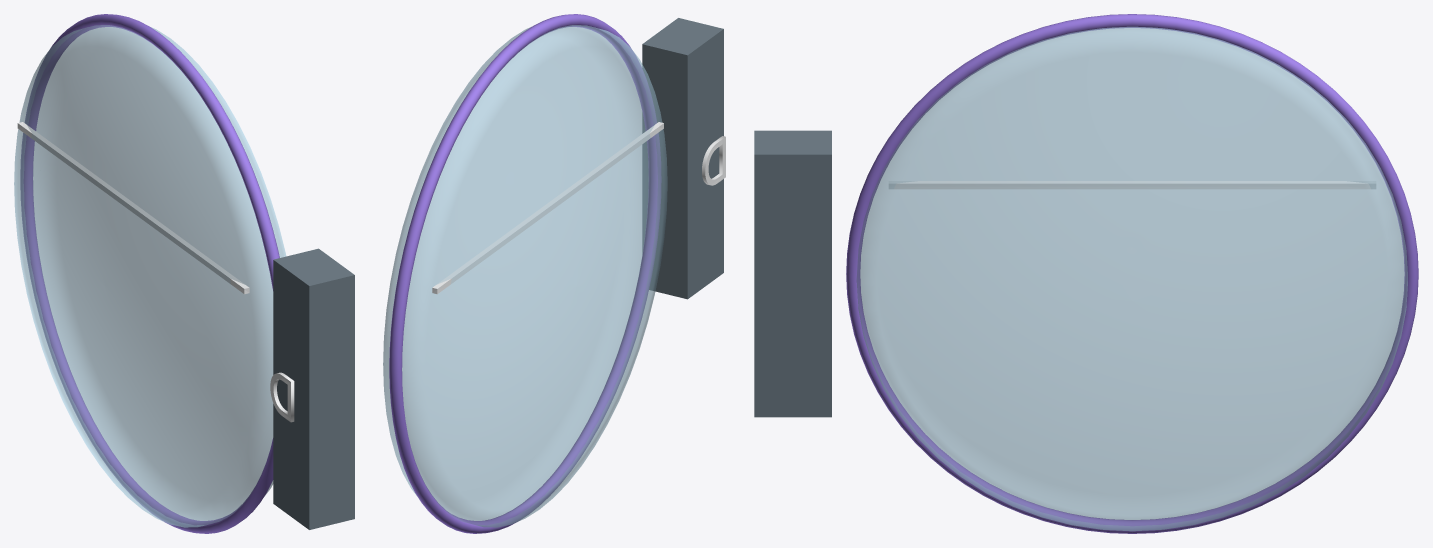
The model's file is sim-eye-d.glb.
The picture shows the model from 3 angles, left to right: view 1: azimuth 30°, elevation 25°; view 2: azimuth 150°, elevation 25°; view 3: azimuth 270°, elevation 25°; orthographic projection. The views are drawn at different scales.
Visible parts, largest first — view 1: optical element, insert tab, lens rim, vertical glint, eye label; view 2: optical element, insert tab, lens rim, vertical glint, eye label; view 3: optical element, lens rim, insert tab, vertical glint.
Part boxes in pixels (box(x1,y1,x2,y2)): optical element: box(14, 25, 286, 527); insert tab: box(273, 248, 354, 529); lens rim: box(20, 14, 279, 533); vertical glint: box(17, 122, 249, 294); eye label: box(270, 372, 294, 422); optical element: box(383, 25, 667, 527); insert tab: box(642, 18, 723, 299); lens rim: box(389, 14, 661, 533); vertical glint: box(432, 122, 663, 294); eye label: box(702, 136, 725, 185); optical element: box(856, 27, 1407, 531); lens rim: box(846, 14, 1418, 533); insert tab: box(754, 130, 831, 417); vertical glint: box(889, 181, 1375, 189).
Size of the model in its own units: 0.36 by 1.62 by 1.88.
